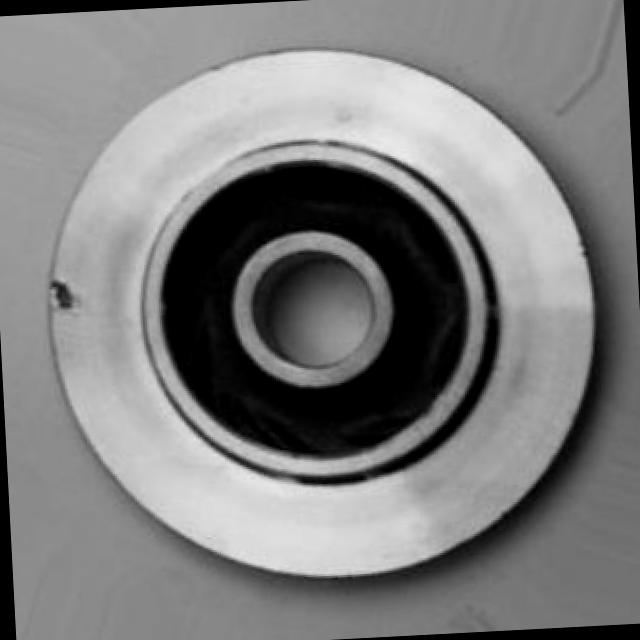Defect: (44, 268, 90, 314)
